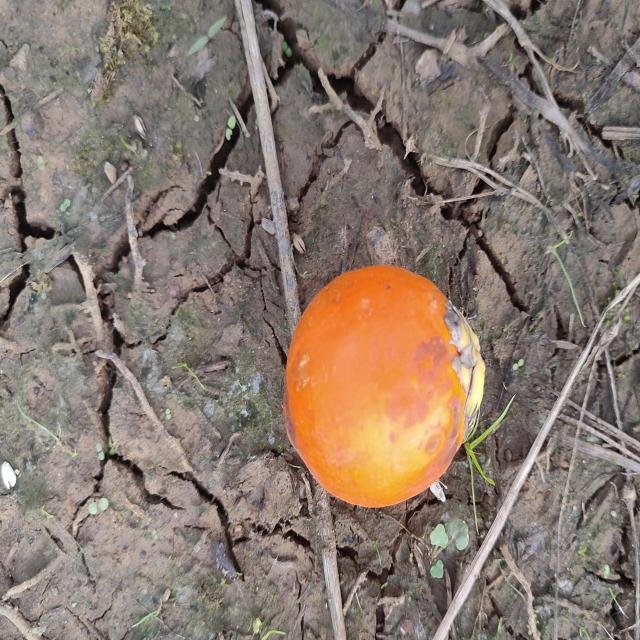good: (284, 266, 484, 512)
